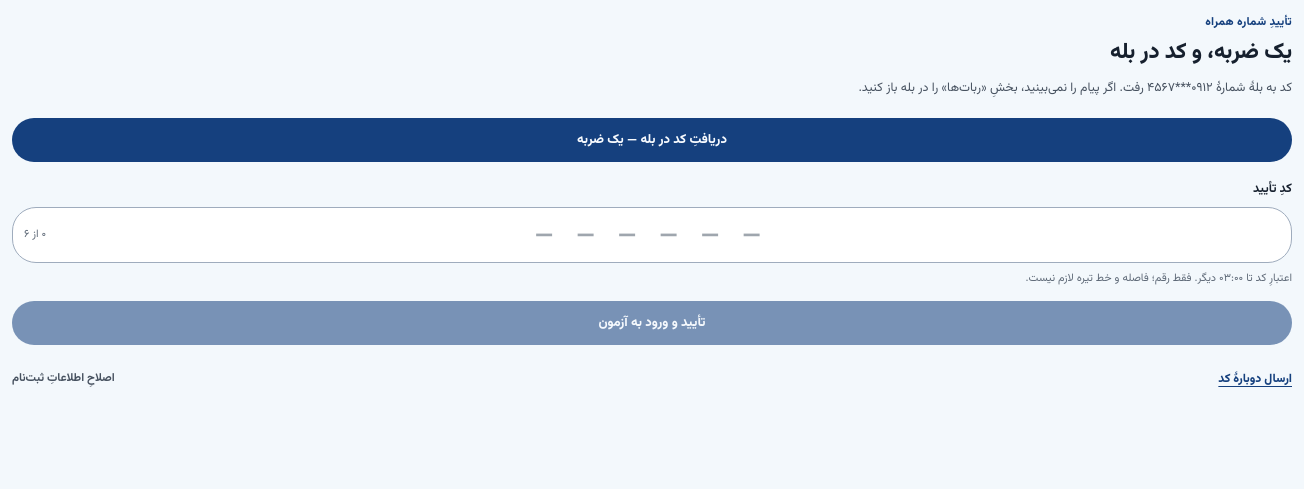
Test case: OtpStep › دکمه تا کامل‌شدنِ ۶ رقم غیرفعال است
This screenshot has width=1304, height=489.
Expected: the button "تأیید و ورود به آزمون" is disabled, [12,301,1292,345]
Type "12345" into the field labelled "کدِ تأیید" at [652, 235], box [12,207,1292,263]
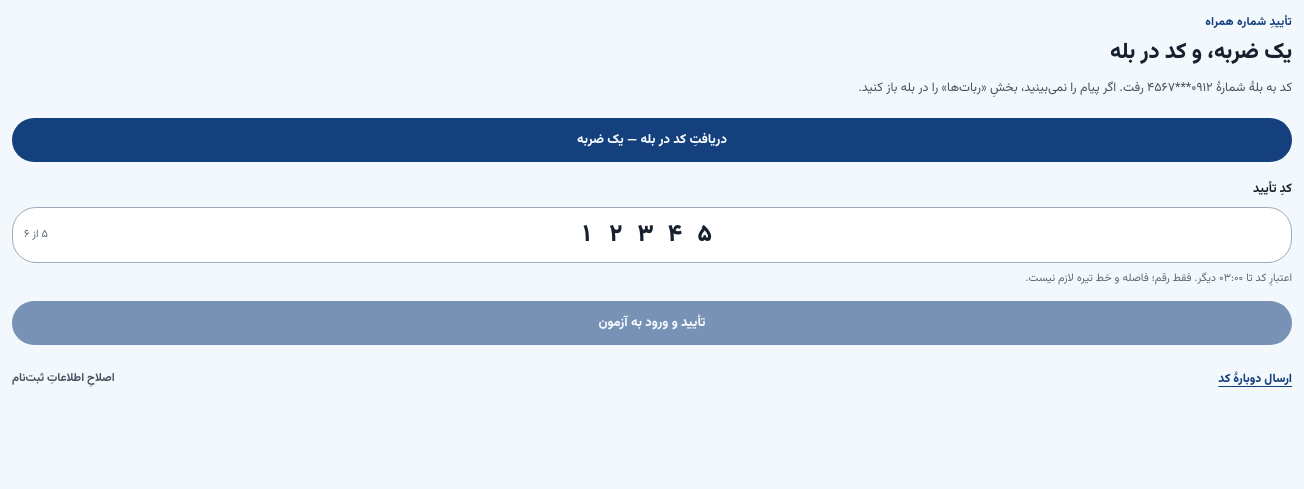
Expected: the button "تأیید و ورود به آزمون" is disabled, [12,301,1292,345]
Replace the text in the field labelled "کدِ تأیید" with "123456" at [652, 235], box [12,207,1292,263]
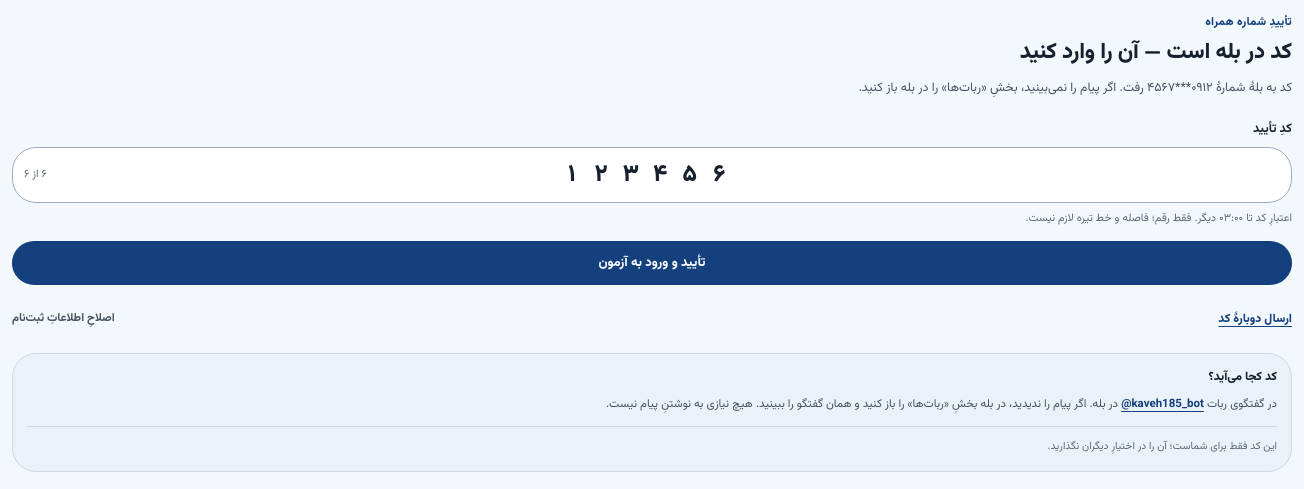
Result: the button "تأیید و ورود به آزمون" is enabled at [12,241,1292,285]
